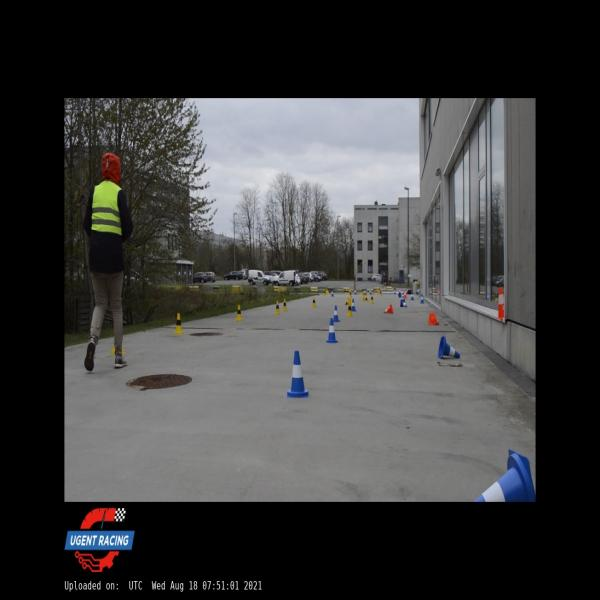blue_cone: (470, 449, 536, 502), (286, 350, 310, 398), (437, 336, 461, 359), (324, 318, 339, 343), (332, 305, 340, 322), (351, 298, 356, 311), (400, 299, 407, 307), (420, 294, 424, 304), (411, 291, 414, 300), (331, 290, 334, 297)
orange_cone: (497, 287, 511, 319), (428, 313, 440, 325), (384, 304, 393, 314), (403, 291, 407, 298)
yellow_cone: (111, 326, 125, 354), (174, 313, 184, 334), (236, 305, 243, 320), (346, 303, 353, 317), (344, 296, 352, 305), (275, 300, 280, 314), (283, 298, 288, 310), (312, 296, 316, 308), (370, 294, 374, 304), (362, 294, 368, 300)
